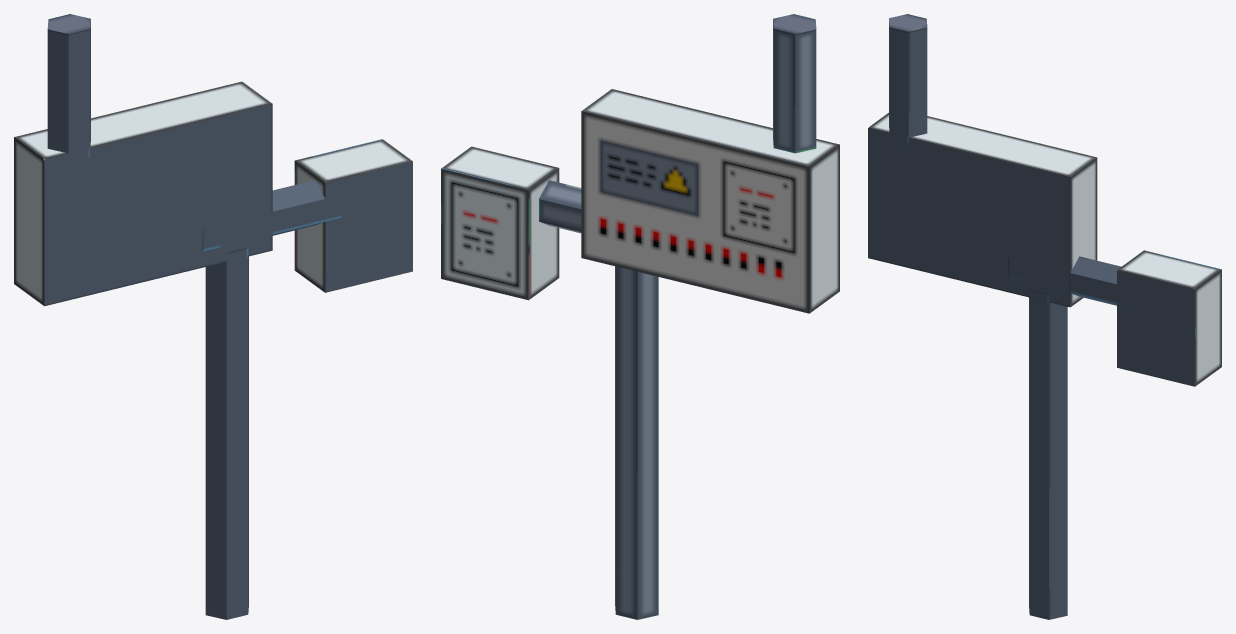
The model's file is ElectricalBox.obj.
The picture shows the model from 3 angles, left to right: view 1: azimuth 30°, elevation 25°; view 2: azimuth 150°, elevation 25°; view 3: azimuth 330°, elevation 25°; orthographic projection. The views are drawn at different scales.
Parts seen in each view (by area): view 1: ElectricalBox; view 2: ElectricalBox; view 3: ElectricalBox.
Boxes of the visible parts, box(x1,y1,x2,y2) form: ElectricalBox: box(14, 14, 412, 619); ElectricalBox: box(441, 14, 839, 619); ElectricalBox: box(868, 14, 1221, 619).
Bounding box in the file's own units: 1.31 × 2.12 × 0.1875.
